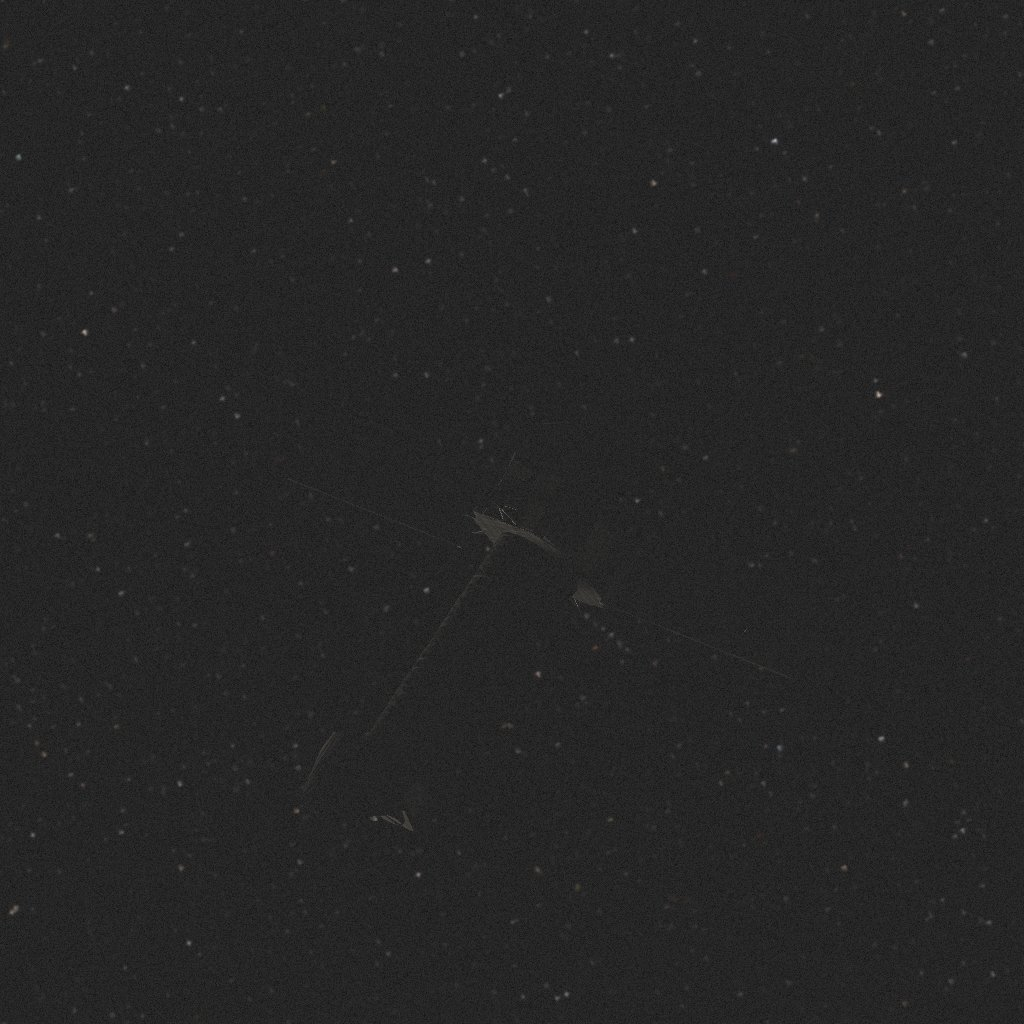xmm_newton: (287, 407, 845, 832)
